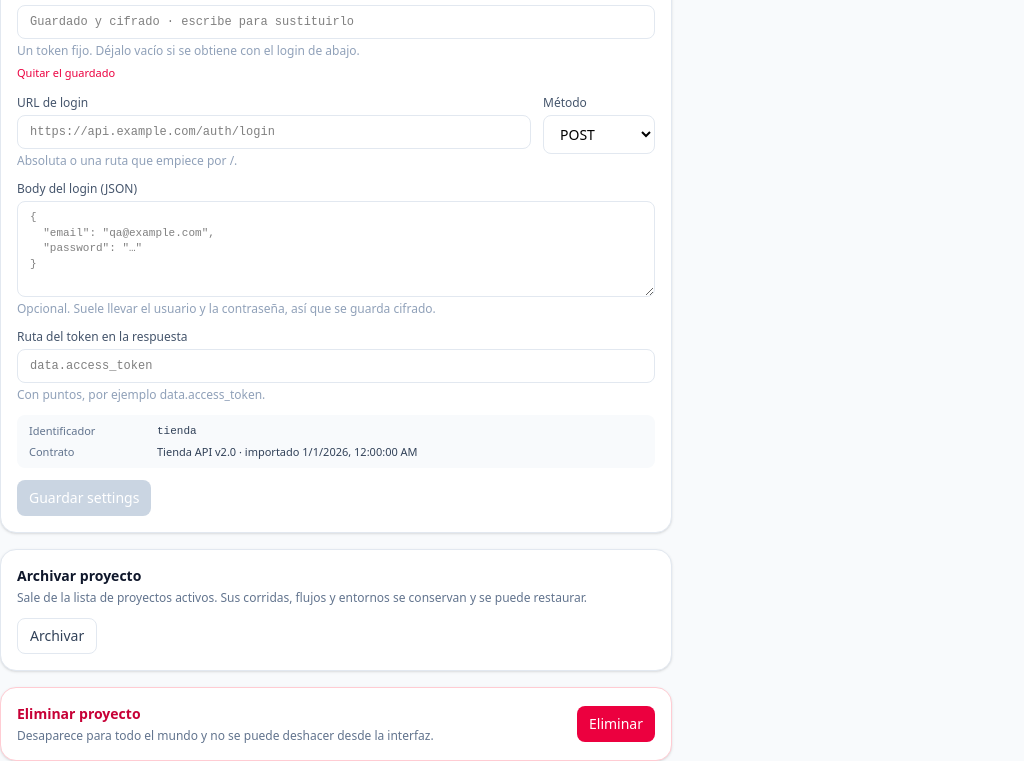
Test: ProjectGeneralPage › archivar pide confirmación y lo dice al terminar
This screenshot has width=1024, height=761.
(page scrolled)
Click the button "Archivar": point(57, 636) [17,618,97,654]
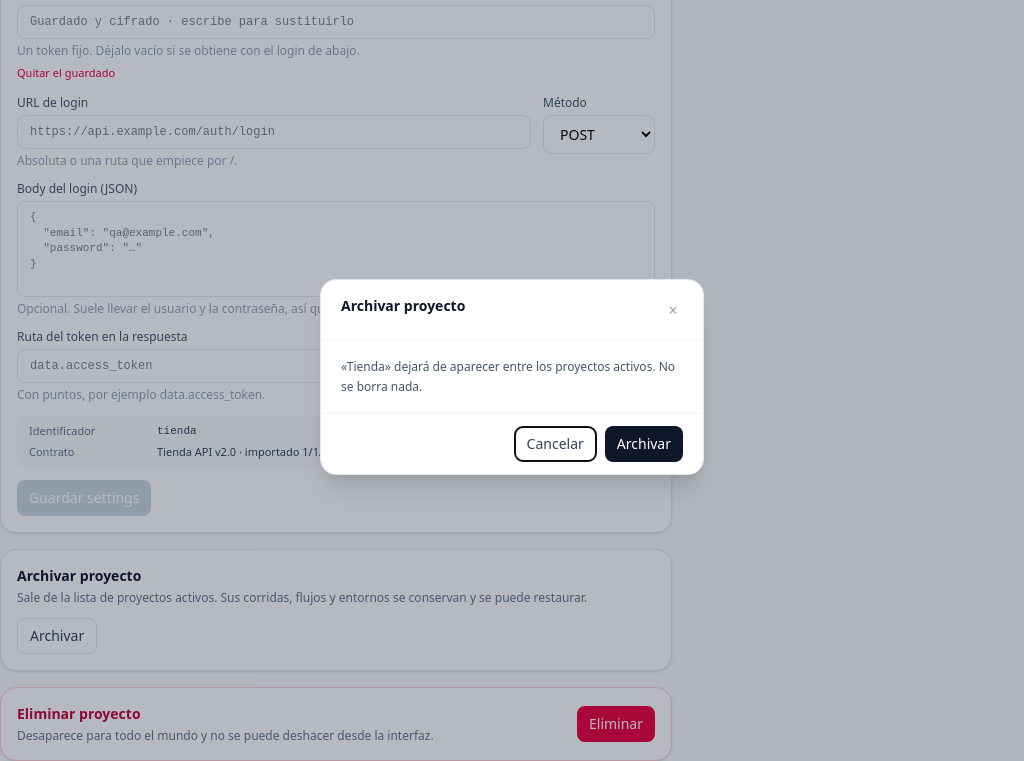
Check: the text "«Tienda» dejará de aparecer" is shown, box [341,358,675,395]
Click the button "Archivar": point(644, 444) [605,426,683,462]
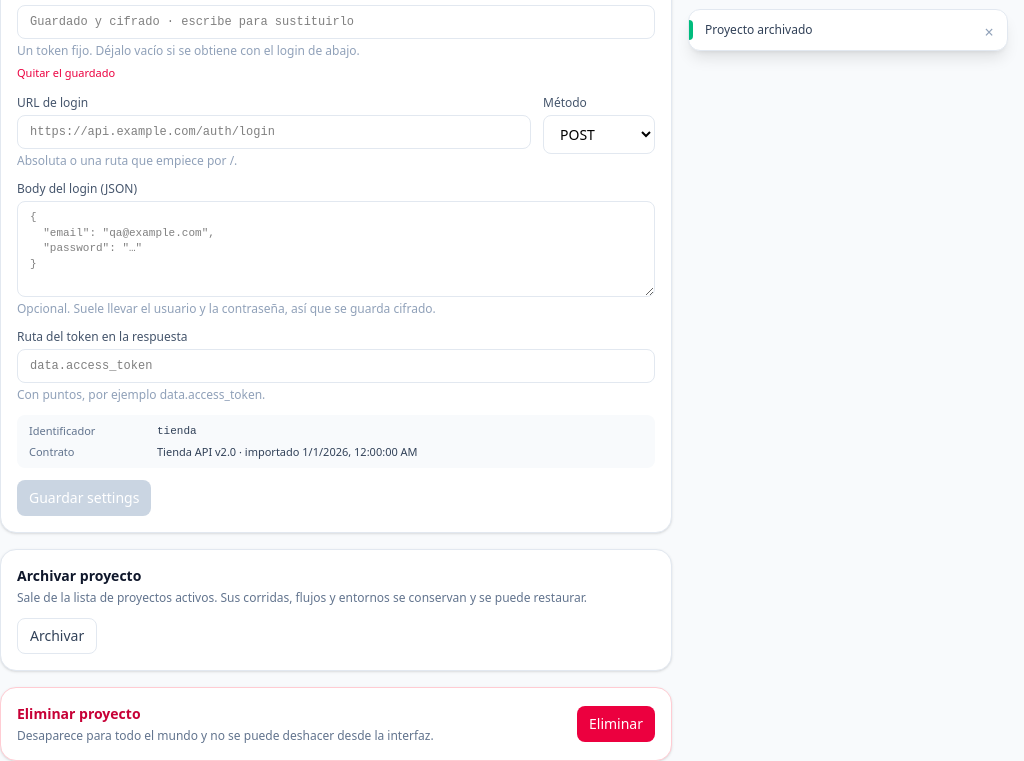
Check: the text "Proyecto archivado" is shown, box [705,21,812,38]
